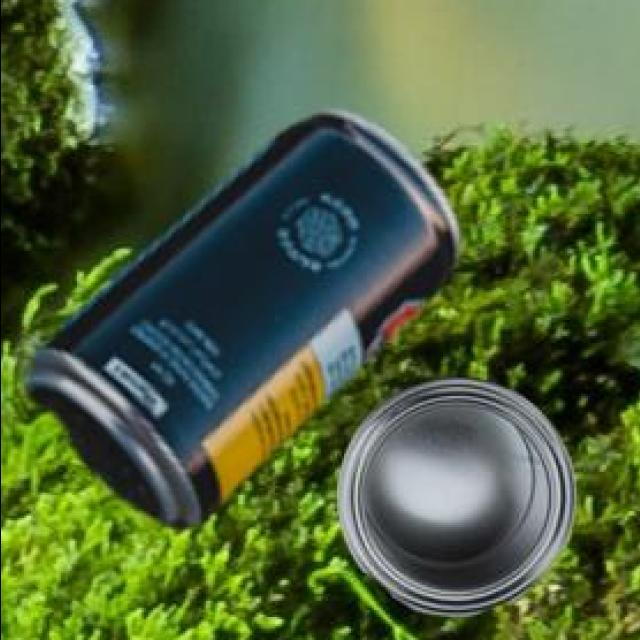logam: (24, 107, 455, 524), (333, 374, 572, 614)
